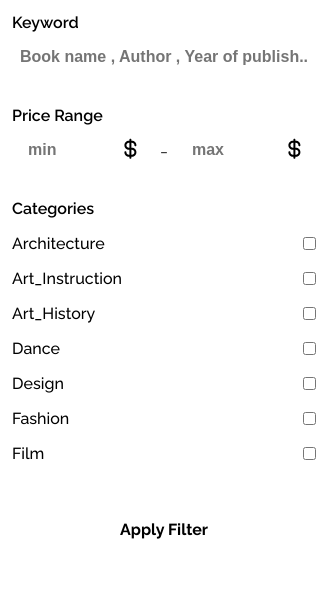
Test case: Test Component : Filter › if filters are empty then if click on the apply show error
Click the button with test id "booksFilterApplyFilterButton": (164, 530) [12,514,316,546]
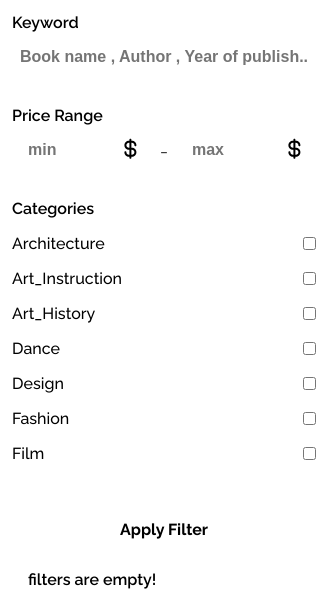
Now the element with test id "errorMessage" reads "filters are empty!", box [28,570,156,589]
